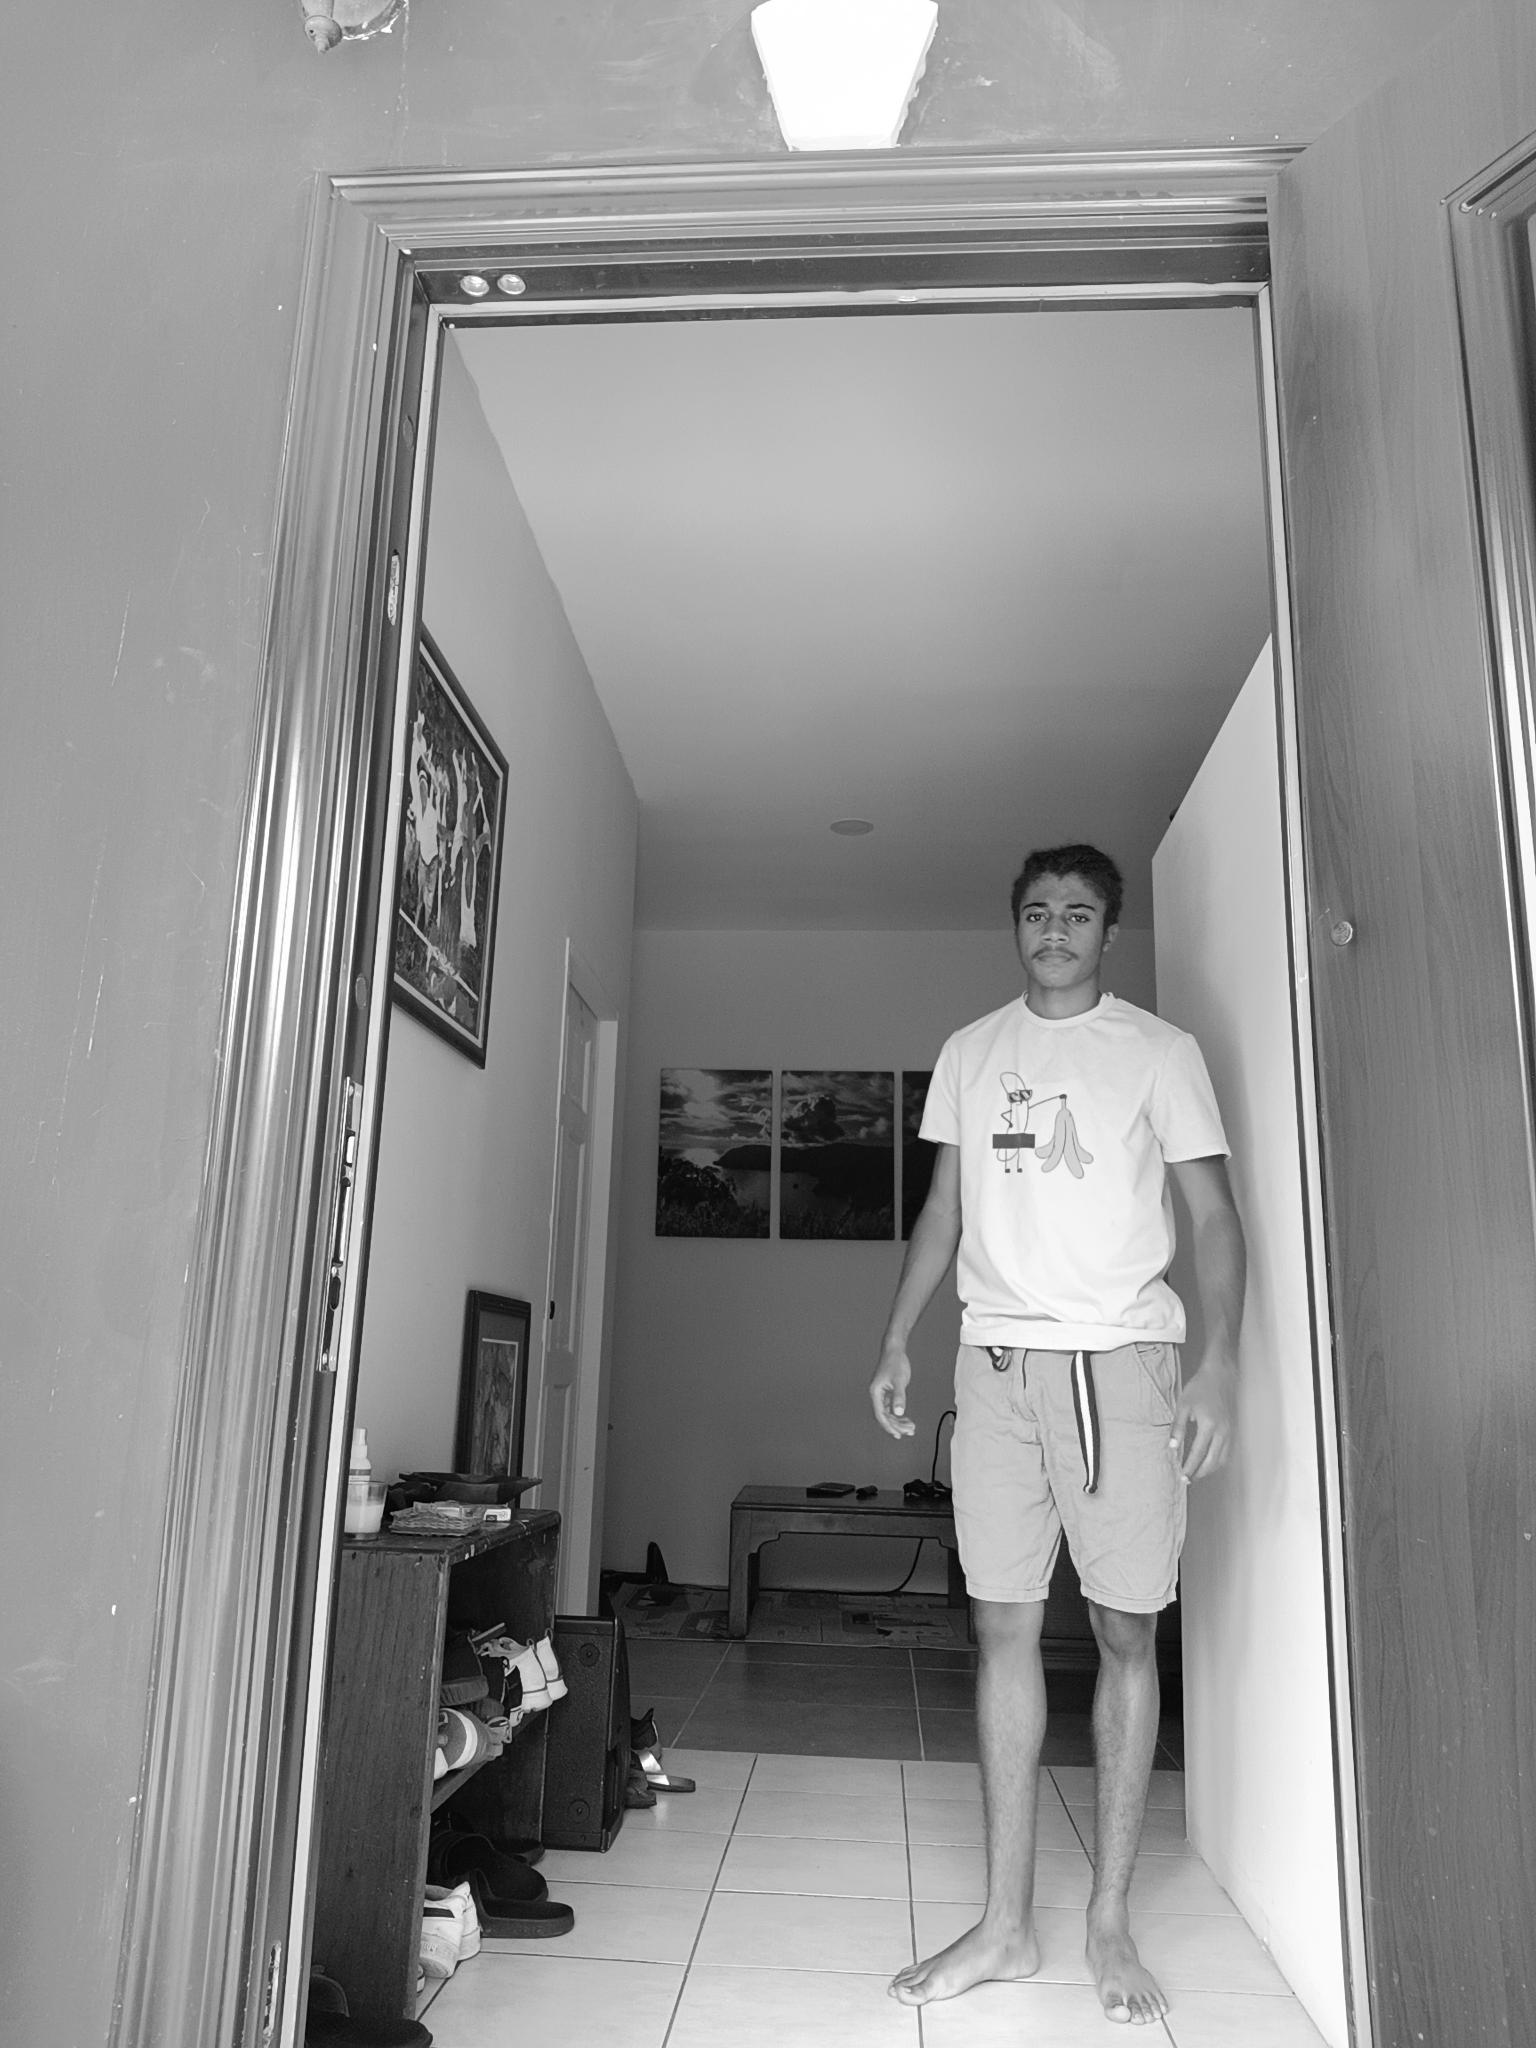front: (862, 839, 1250, 2025)
